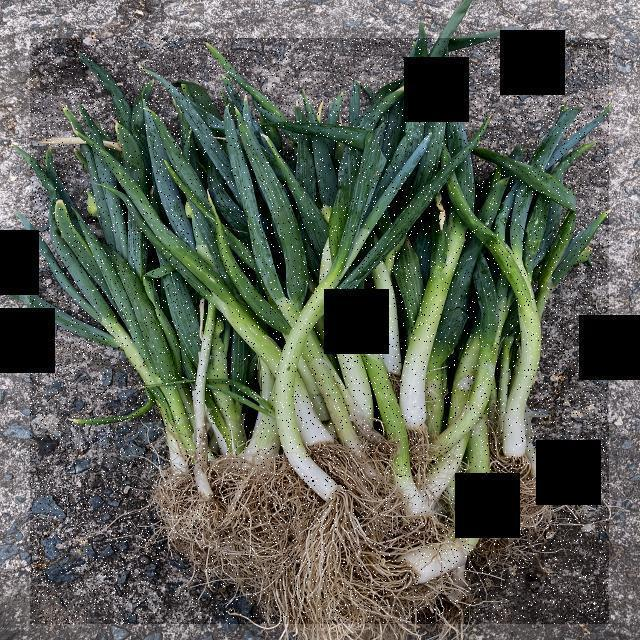green_onion: (24, 113, 248, 521), (417, 111, 607, 573), (258, 138, 424, 506)
